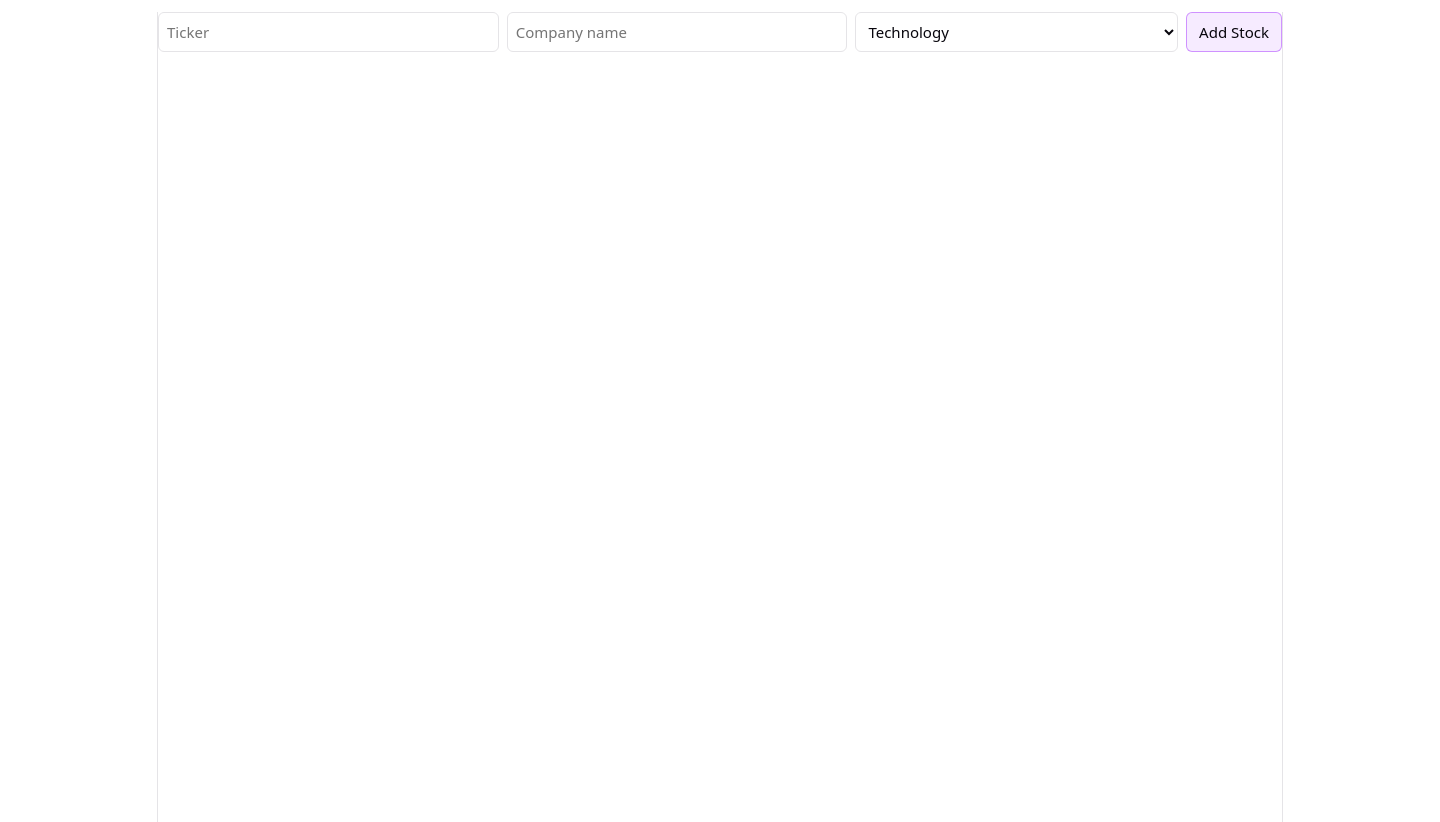
it: shows backend validation errors under the matching fields
Type "AAPL" into the field labelled "Ticker" at (328, 32), box [158, 12, 499, 52]
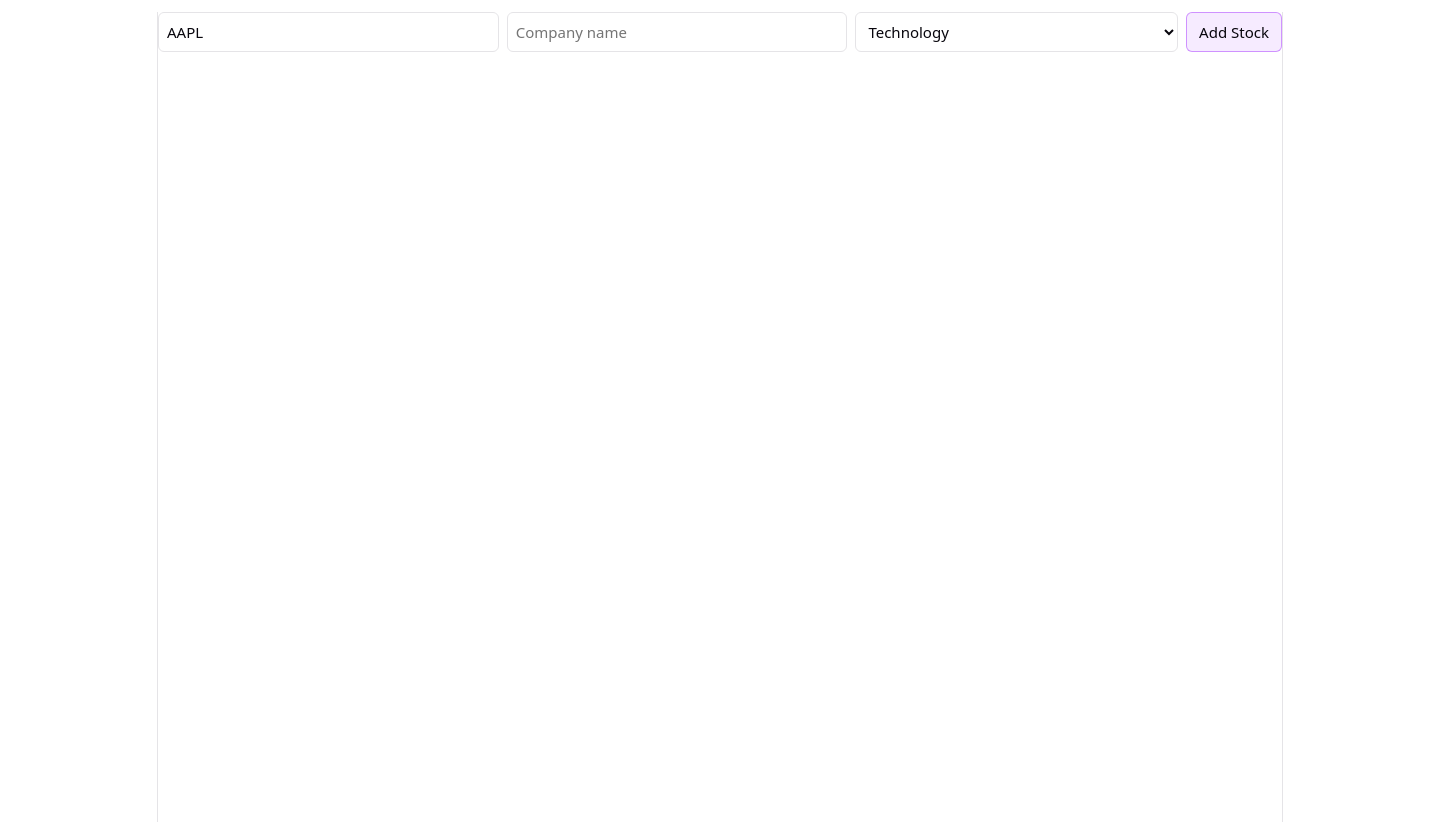
Type "Apple Inc." into the field labelled "Company name" at (677, 32), box [507, 12, 847, 52]
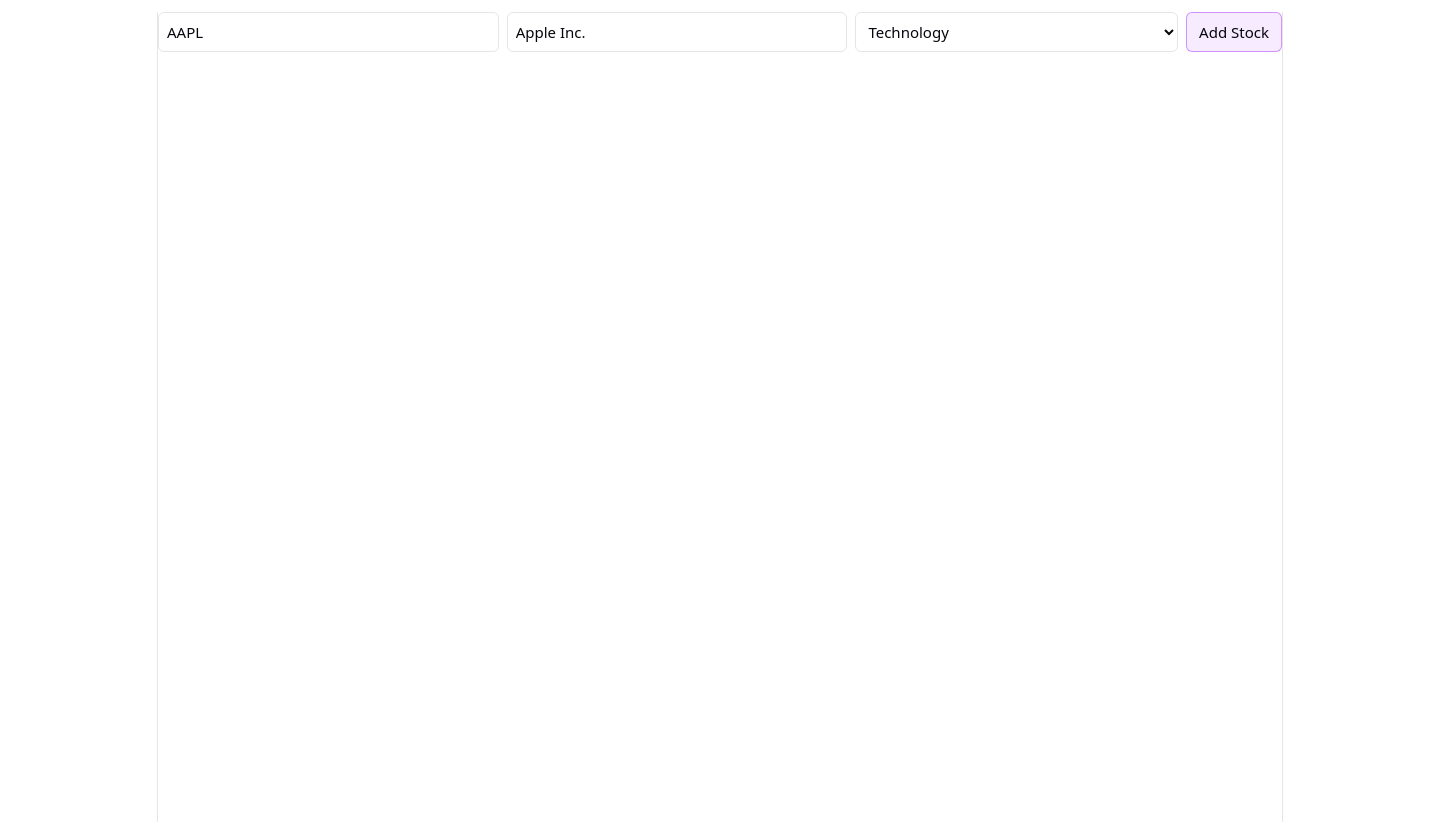
Select "Technology" in the dropdown named "Sector" at (1017, 32), box [855, 12, 1178, 52]
Click the button "Add Stock" at (1234, 32), box [1186, 12, 1282, 52]
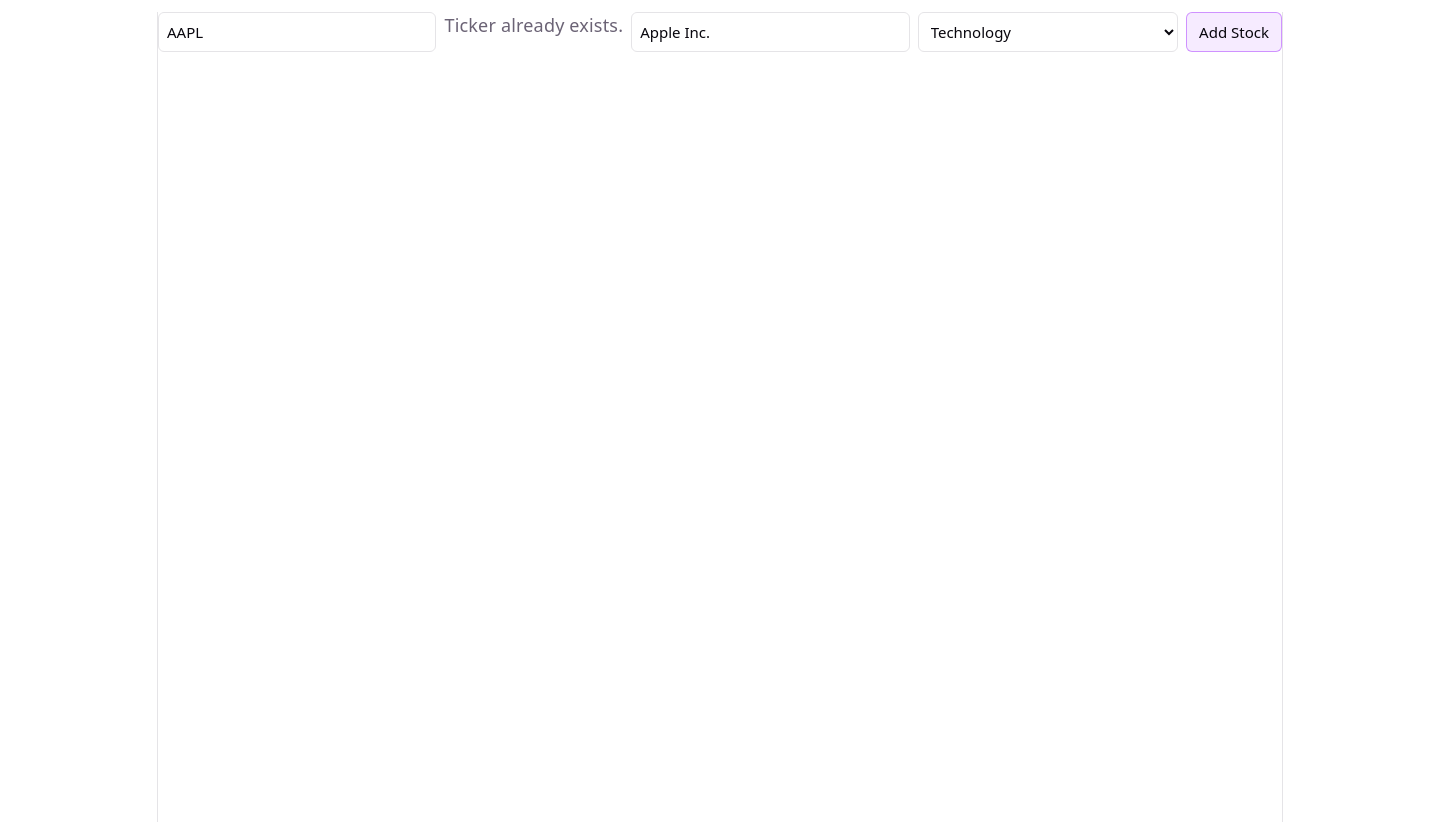
Now the text "Ticker already exists." is shown, box [444, 13, 623, 37]
